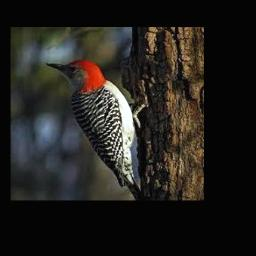Woodpecker: (46, 59, 144, 200)
